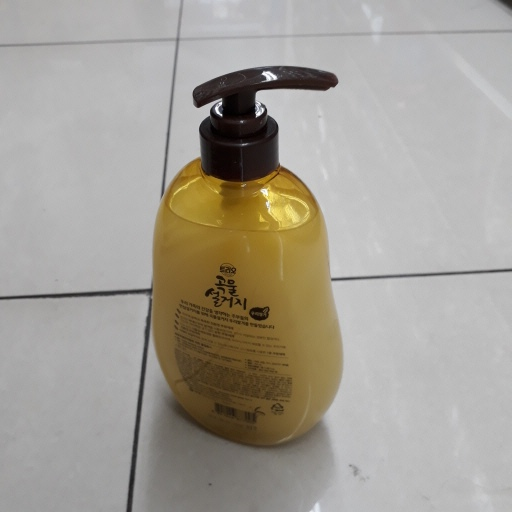Plastic_3: (146, 65, 352, 449)
